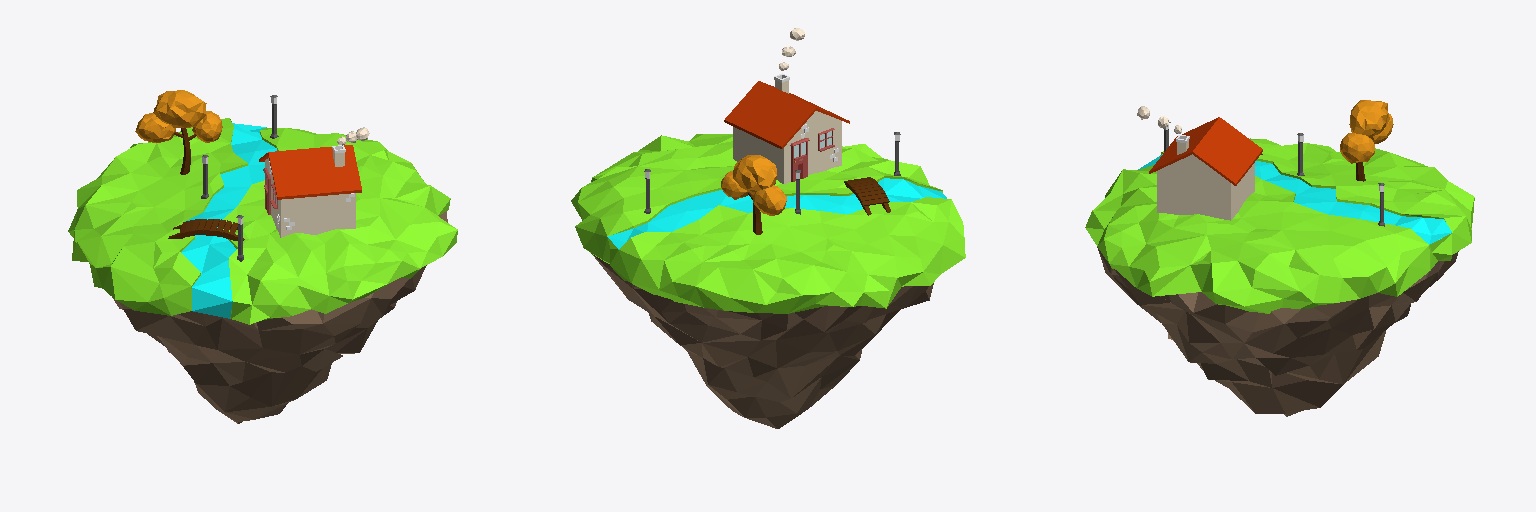
File: island3.obj
3 renders of one model, left to right at view 1: azimuth 30°, elevation 25°; view 2: azimuth 150°, elevation 25°; view 3: azimuth 270°, elevation 25°, orthographic.
Parts seen in each view (by area): view 1: grass_Mesh.027, bottom_2_Mesh.026, roof_Mesh.044, walls_Mesh.043, Sphere_2_Mesh.003, Sphere_2_3_Mesh.005, Sphere_1_2_Mesh.004; view 2: grass_Mesh.027, bottom_2_Mesh.026, roof_Mesh.044, walls_Mesh.043, Sphere_2_Mesh.003, Sphere_2_3_Mesh.005, Door_Mesh.038; view 3: grass_Mesh.027, bottom_2_Mesh.026, walls_Mesh.043, roof_Mesh.044, Sphere_2_Mesh.003, Sphere_1_2_Mesh.004.
Part boxes in pixels (bbox=[...]): grass_Mesh.027: bbox=[68, 118, 457, 324]; bottom_2_Mesh.026: bbox=[112, 211, 447, 423]; roof_Mesh.044: bbox=[259, 145, 361, 199]; walls_Mesh.043: bbox=[265, 158, 355, 237]; Sphere_2_Mesh.003: bbox=[153, 90, 206, 127]; Sphere_2_3_Mesh.005: bbox=[135, 113, 175, 142]; Sphere_1_2_Mesh.004: bbox=[192, 111, 222, 142]; grass_Mesh.027: bbox=[571, 134, 965, 313]; bottom_2_Mesh.026: bbox=[591, 253, 933, 428]; roof_Mesh.044: bbox=[724, 81, 849, 148]; walls_Mesh.043: bbox=[733, 111, 841, 184]; Sphere_2_Mesh.003: bbox=[733, 155, 776, 194]; Sphere_2_3_Mesh.005: bbox=[753, 185, 786, 215]; Door_Mesh.038: bbox=[790, 138, 809, 181]; grass_Mesh.027: bbox=[1085, 138, 1474, 313]; bottom_2_Mesh.026: bbox=[1097, 247, 1458, 416]; walls_Mesh.043: bbox=[1157, 154, 1254, 220]; roof_Mesh.044: bbox=[1149, 117, 1262, 185]; Sphere_2_Mesh.003: bbox=[1349, 100, 1389, 137]; Sphere_1_2_Mesh.004: bbox=[1340, 133, 1374, 163].
Size of the model in its own units: 1.96 by 1.86 by 1.96.